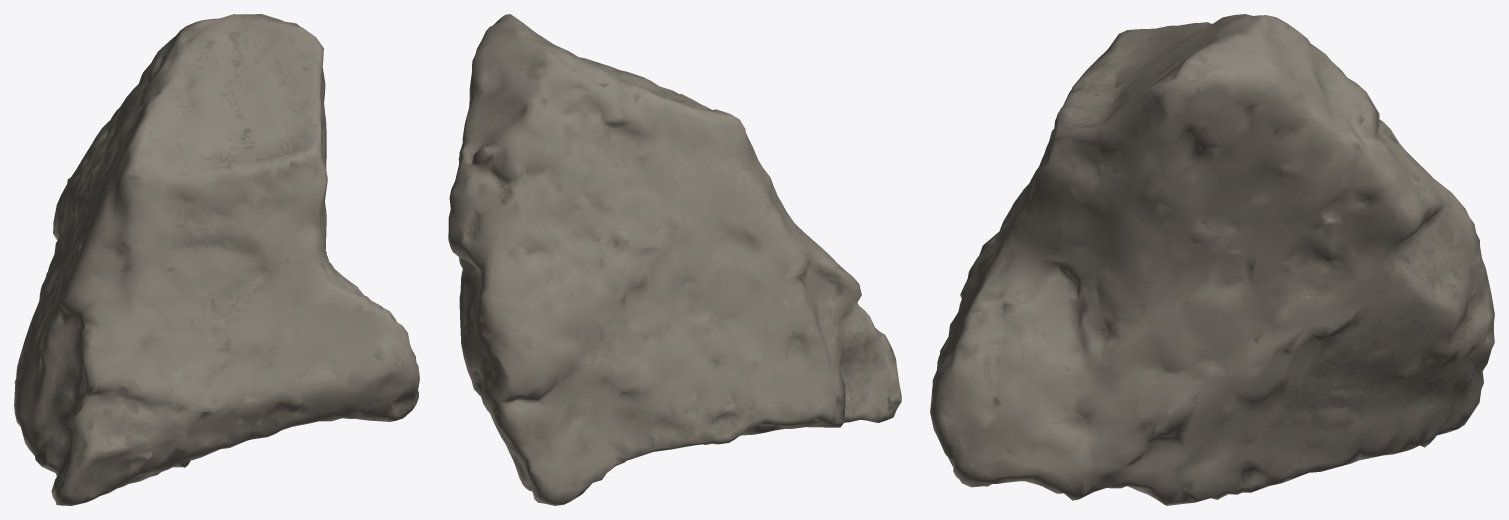
The model's file is moon_rock_05.glb.
3 views of the same model, side by side, from view 1: azimuth 30°, elevation 25°; view 2: azimuth 150°, elevation 25°; view 3: azimuth 270°, elevation 25° (orthographic). The views are drawn at different scales.
Parts seen in each view (by area): view 1: moon_rock_05_LOD0; view 2: moon_rock_05_LOD0; view 3: moon_rock_05_LOD0.
Part boxes in pixels (x1=…): moon_rock_05_LOD0: x1=14, y1=14, x2=419, y2=505; moon_rock_05_LOD0: x1=448, y1=14, x2=901, y2=505; moon_rock_05_LOD0: x1=930, y1=14, x2=1494, y2=505.
Size of the model in its own units: 0.0717 by 0.0734 by 0.0811.
Materials: 1 (1 with a texture image).
